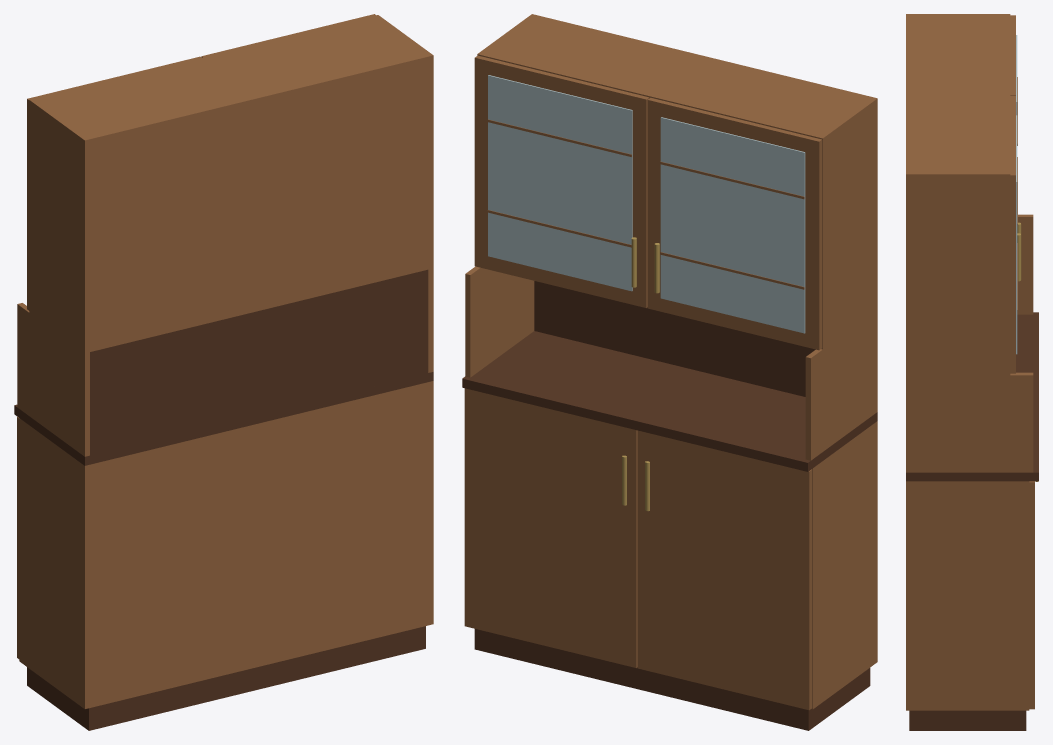
3 views of the same model, side by side, from view 1: azimuth 30°, elevation 25°; view 2: azimuth 150°, elevation 25°; view 3: azimuth 270°, elevation 25° (orthographic). The views are drawn at different scales.
Parts seen in each view (by area): view 1: lower-carcass, plinth; view 2: lower-carcass, glass-left, plinth, handle-lower-left; view 3: lower-carcass, plinth, glass-left, handle-lower-left.
Boxes of the visible parts, left/top/right/bottom form: lower-carcass: left=17, top=14, right=433, bottom=708; plinth: left=14, top=269, right=433, bottom=730; lower-carcass: left=464, top=14, right=877, bottom=710; glass-left: left=488, top=75, right=805, bottom=333; plinth: left=462, top=281, right=877, bottom=730; handle-lower-left: left=622, top=237, right=659, bottom=511; lower-carcass: left=906, top=14, right=1034, bottom=710; plinth: left=906, top=312, right=1038, bottom=730; glass-left: left=1016, top=35, right=1017, bottom=354; handle-lower-left: left=1017, top=222, right=1038, bottom=481.
Bounding box in the file's own units: 1.2 × 1.95 × 0.42.
